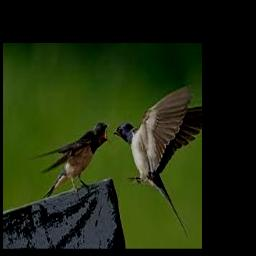Swallow: (114, 85, 202, 238), (31, 122, 110, 198)
